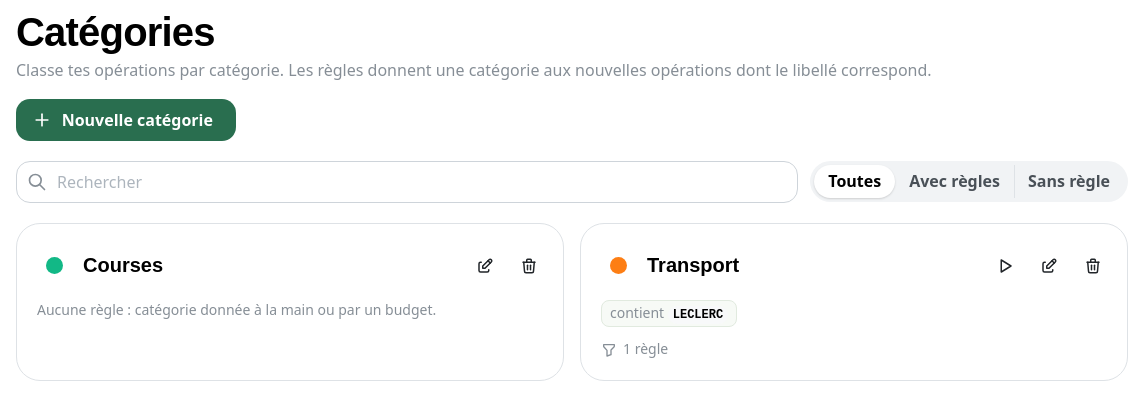
Scenario: CategoriesPage › filters the categories by rules
Click the text "Sans règle" at (1069, 181), box 1028,170 -> 1110,192
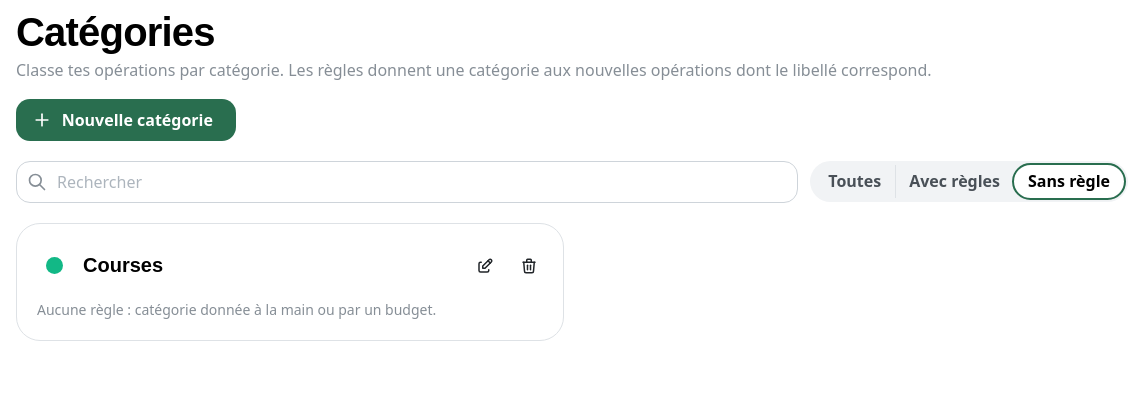
Check: the element "Courses" is shown, box 16,223 -> 564,341
Check: the heading "Transport" is gone
